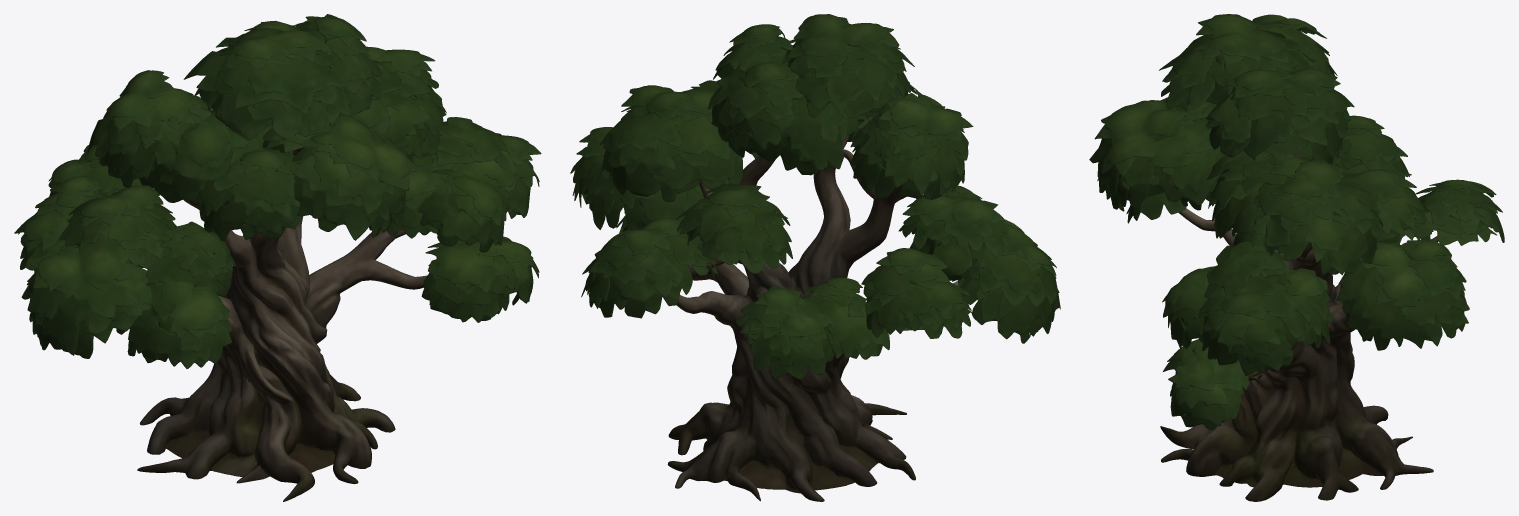
File: tree_oak.glb
The picture shows the model from 3 angles, left to right: view 1: azimuth 30°, elevation 25°; view 2: azimuth 150°, elevation 25°; view 3: azimuth 270°, elevation 25°; orthographic projection. The views are drawn at different scales.
Parts seen in each view (by area): view 1: world; view 2: world; view 3: world.
Boxes of the visible parts, bbox=[...] form: world: bbox=[14, 14, 541, 501]; world: bbox=[570, 14, 1060, 501]; world: bbox=[1089, 14, 1504, 501].
Size of the model in its own units: 0.9979 by 0.8271 by 0.7535.
1 material, 1 textured.
